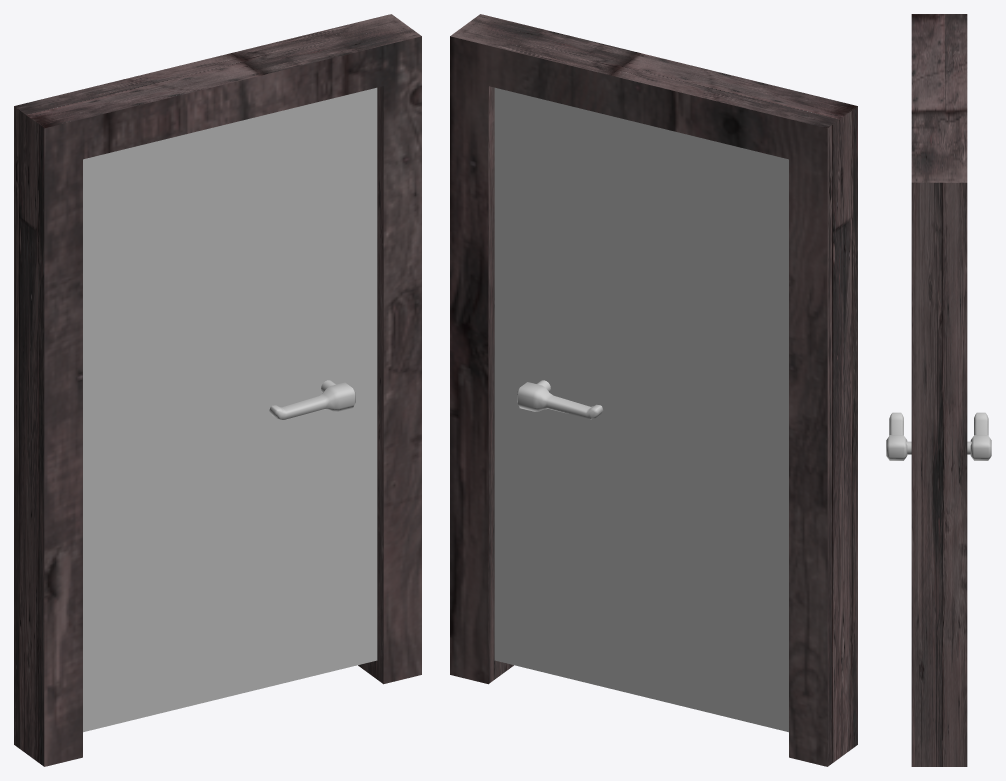
The model's file is Door 2 + 3 (Old).fbx.
3 views of the same model, side by side, from view 1: azimuth 30°, elevation 25°; view 2: azimuth 150°, elevation 25°; view 3: azimuth 270°, elevation 25° (orthographic). The views are drawn at different scales.
Parts seen in each view (by area): view 1: Prefab_Door2, Prefab_Door2_Frame, Prefab_Door2_Handle3; view 2: Prefab_Door2, Prefab_Door2_Frame, Prefab_Door2_Handle2; view 3: Prefab_Door2_Frame, Prefab_Door2_Handle2, Prefab_Door2_Handle3.
Part boxes in pixels (x1,y1,x2,y2): Prefab_Door2: (83,87,377,732); Prefab_Door2_Frame: (14,14,421,766); Prefab_Door2_Handle3: (269,382,355,419); Prefab_Door2: (494,87,788,732); Prefab_Door2_Frame: (450,14,857,766); Prefab_Door2_Handle2: (517,382,603,419); Prefab_Door2_Frame: (911,14,967,766); Prefab_Door2_Handle2: (970,412,991,460); Prefab_Door2_Handle3: (886,412,907,460).
Bounding box in the file's own units: 2.23 × 3.6 × 0.5888.
